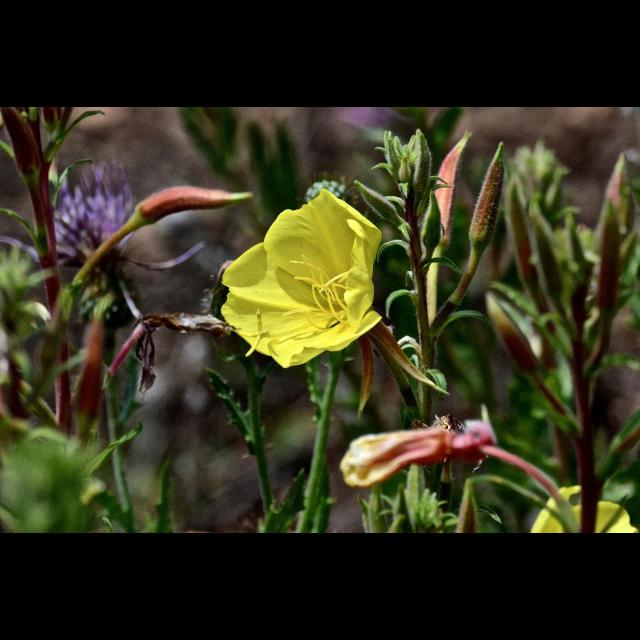Flower: (213, 187, 451, 401), (0, 154, 150, 330)
